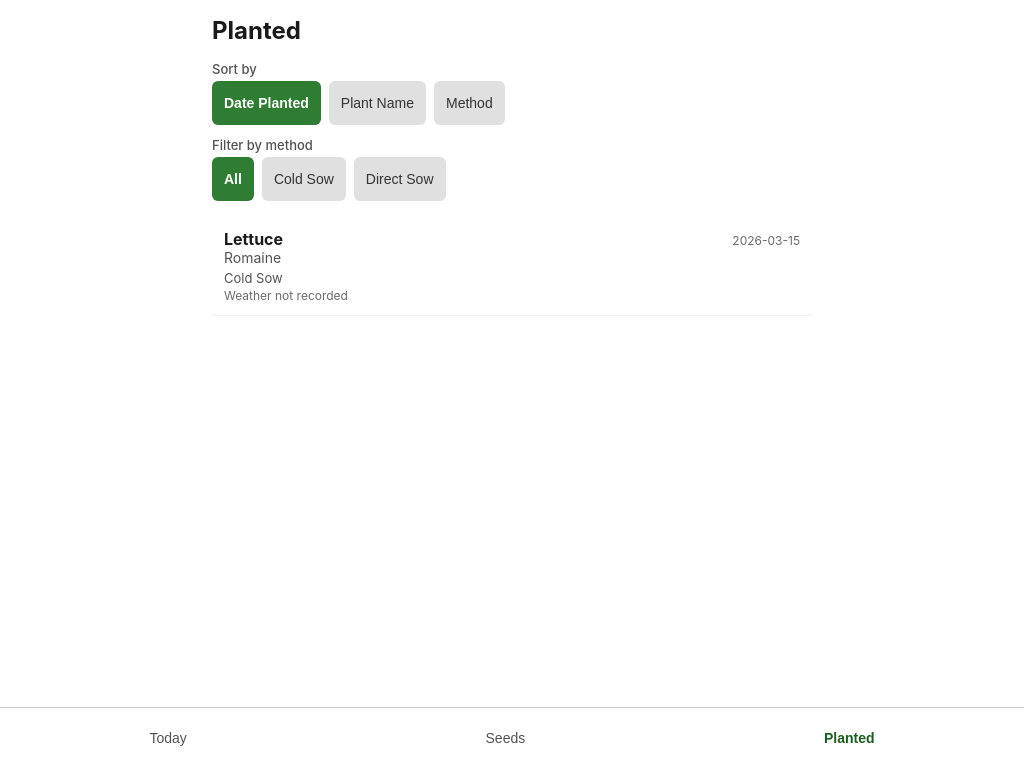
Planted page › shows 'no match' message when filter excludes all results
Filter by direct_sow -- should show "no match"
Step 1. Click the button "Direct Sow" → click(400, 179), box x1=354 y1=157 x2=446 y2=201
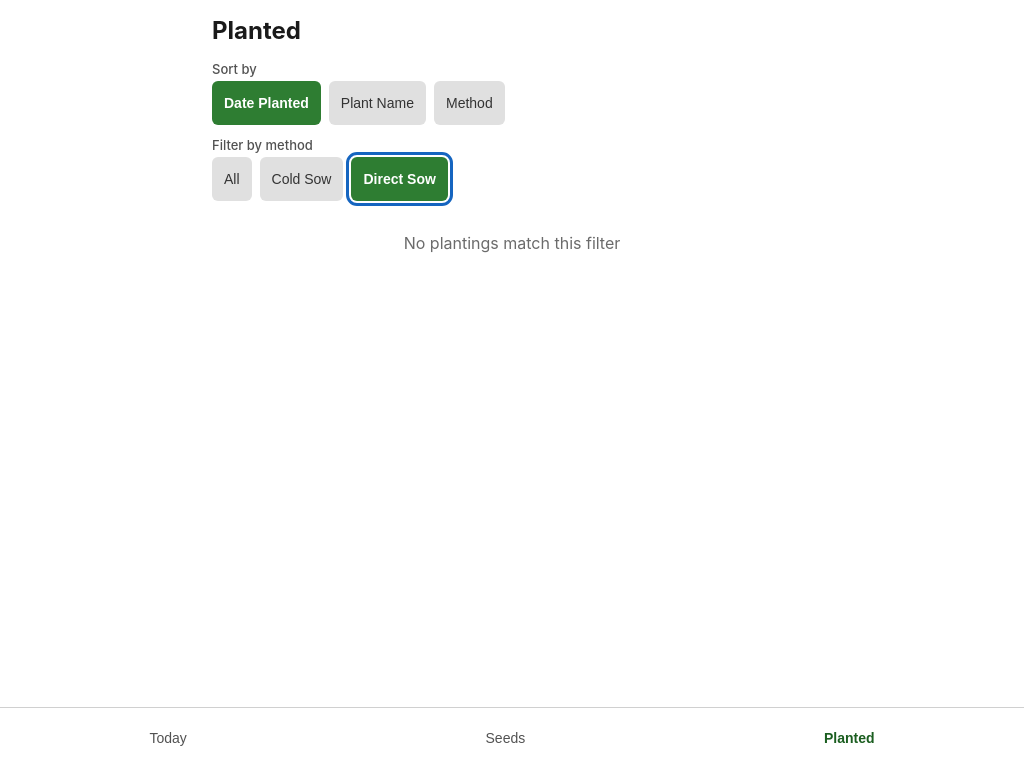
Expected: the text "No plantings match this filter" is shown, x1=404 y1=233 x2=620 y2=253
